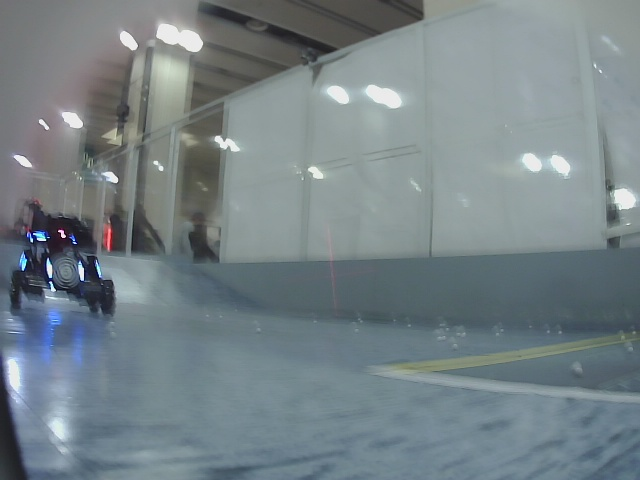lamp: (45, 257, 54, 281), (77, 260, 84, 282)
pair: (46, 259, 85, 283)
